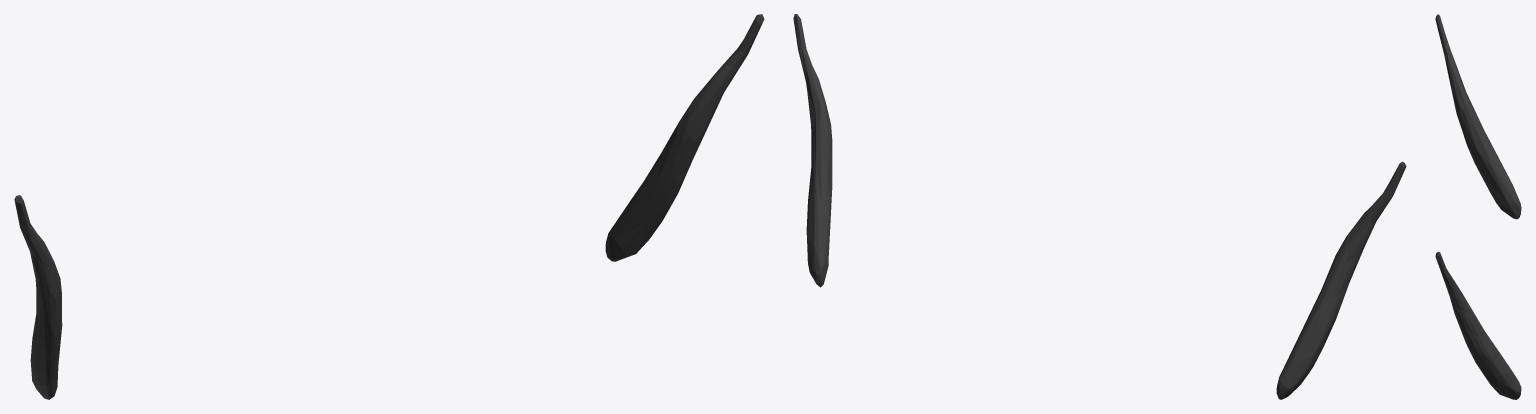
Rendered from m_flexor_digiti_V.glb.
3 views of the same model, side by side, from view 1: azimuth 30°, elevation 25°; view 2: azimuth 150°, elevation 25°; view 3: azimuth 270°, elevation 25° (orthographic). The views are drawn at different scales.
Visible parts, largest first — view 1: m_flexor_digiti_V; view 2: m_flexor_digiti_V; view 3: m_flexor_digiti_V.
Boxes of the visible parts, box(x1,y1,x2,y2) form: m_flexor_digiti_V: box(14, 14, 764, 399); m_flexor_digiti_V: box(793, 14, 1406, 399); m_flexor_digiti_V: box(1435, 14, 1521, 399).
Bounding box in the file's own units: 0.00417 × 0.00143 × 0.000633.
Materials: 1 (1 with a texture image).
